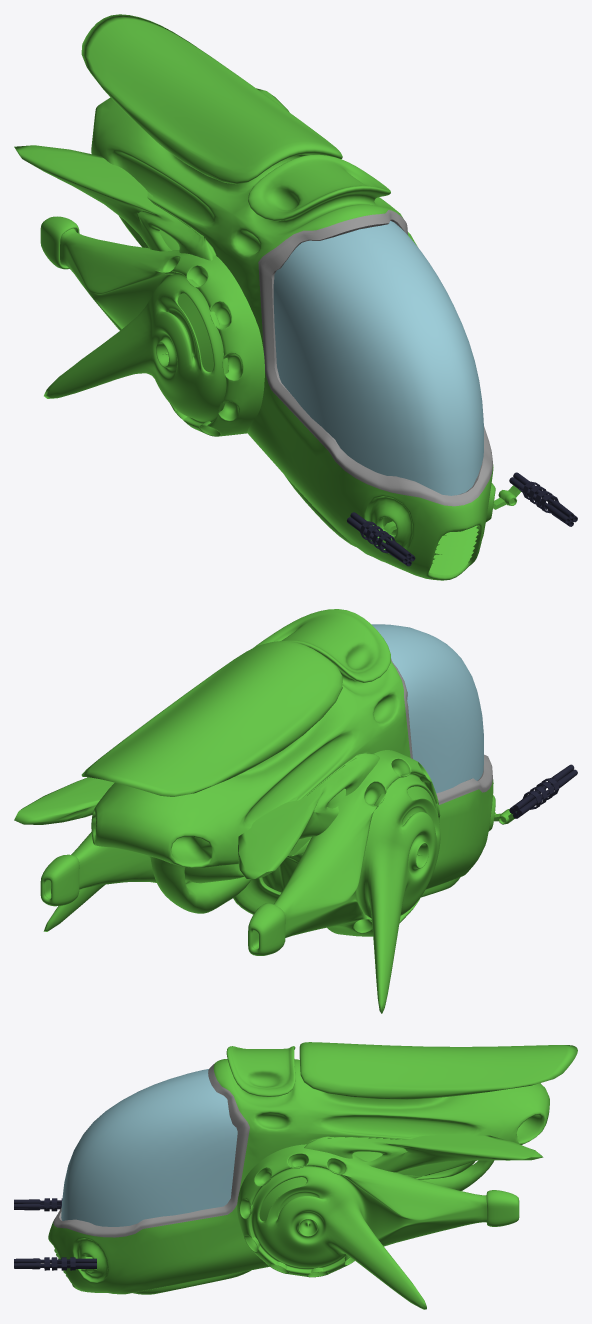
File: Player.FBX
The picture shows the model from 3 angles, top to bottom: view 1: azimuth 30°, elevation 25°; view 2: azimuth 150°, elevation 25°; view 3: azimuth 270°, elevation 25°; orthographic projection. The views are drawn at different scales.
Parts seen in each view (by area): view 1: jishen, boli, paoL, paoR; view 2: jishen, boli, paoR; view 3: jishen, boli, paoL, paoR.
Part boxes in pixels (x1,y1,x2,y2): jishen: (14, 14, 520, 580); boli: (273, 221, 483, 495); paoL: (509, 472, 577, 526); paoR: (347, 512, 415, 566); jishen: (14, 609, 516, 1013); boli: (371, 624, 483, 793); paoR: (509, 764, 577, 818); jishen: (48, 1042, 577, 1309); boli: (61, 1069, 237, 1226); paoL: (14, 1257, 96, 1270); paoR: (14, 1198, 62, 1211).
Size of the model in its own units: 2487 by 2271 by 4831.
